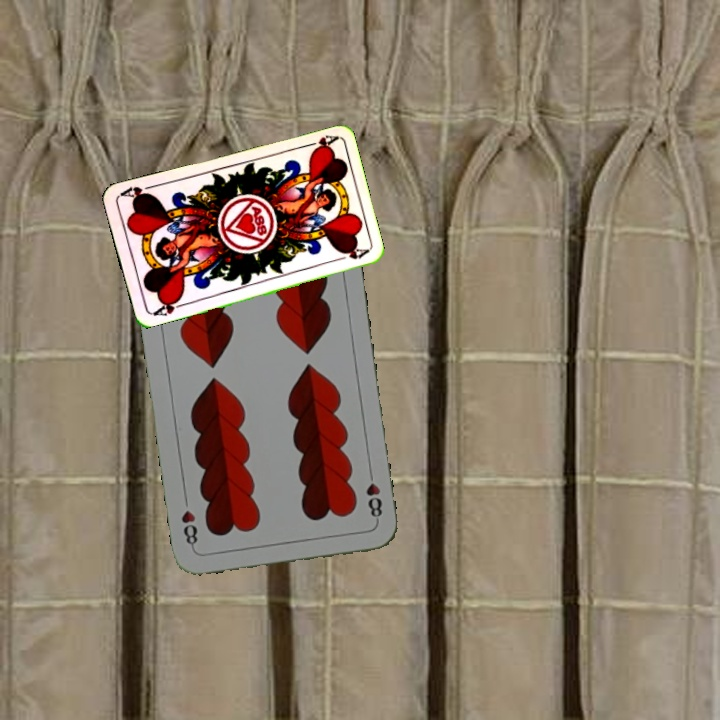H8: (362, 465, 385, 524)
HA: (298, 131, 339, 155), (148, 294, 187, 319)
